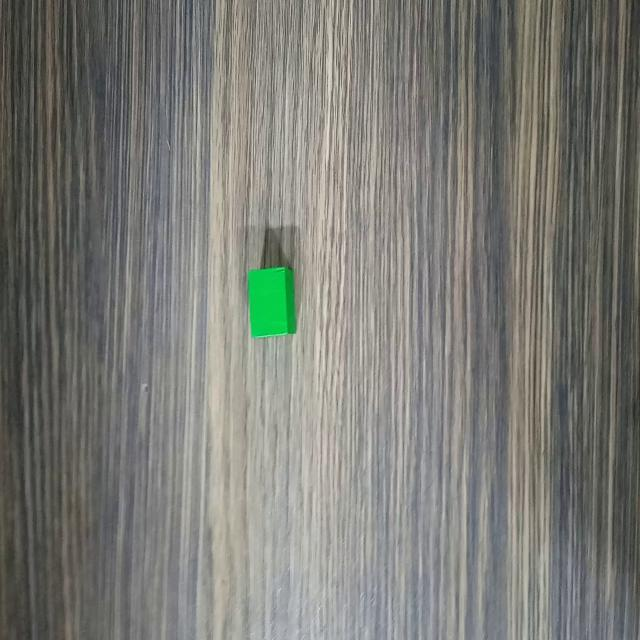cube: (243, 260, 298, 344)
